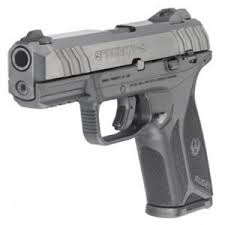gun: (8, 6, 215, 217)
